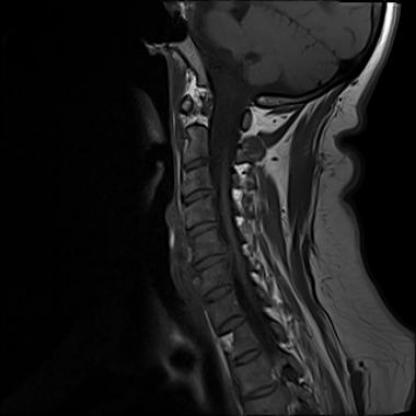Disc Protrusionrotation: (201, 284, 238, 303), (180, 189, 217, 204), (191, 256, 228, 271)
